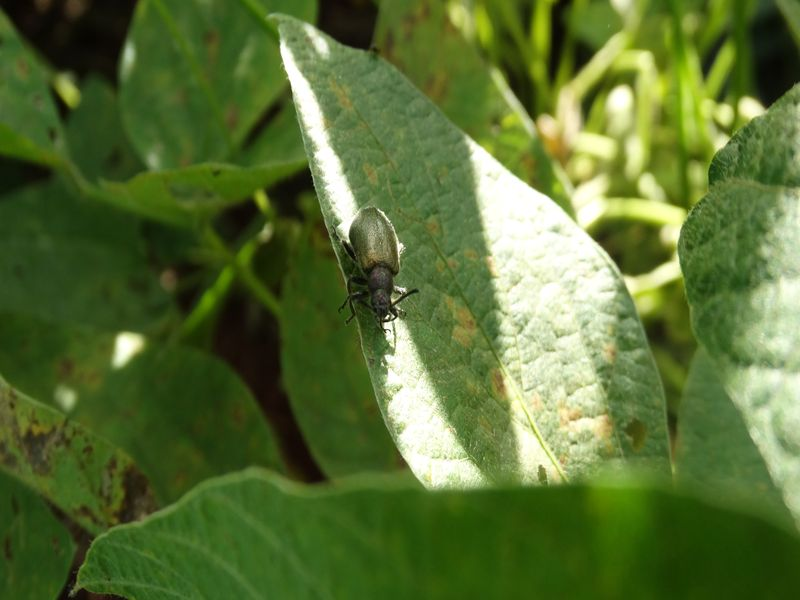Lagria_villosa: (319, 196, 433, 340)
